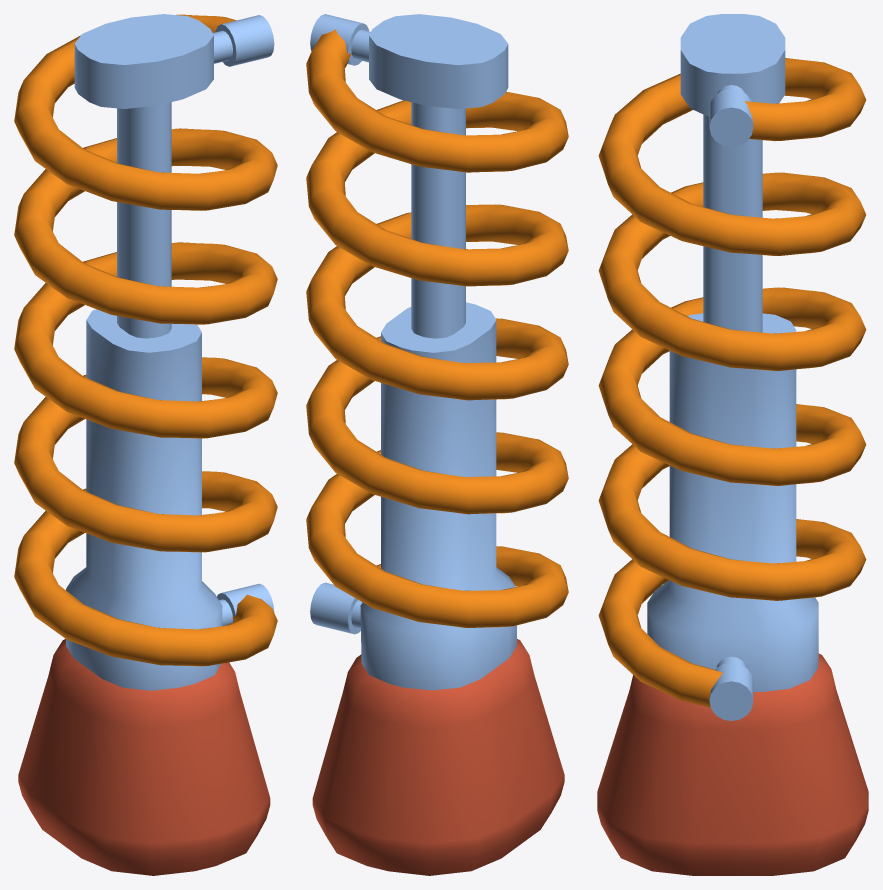
The model's file is SpringsUpgrade_02_mesh.fbx.
3 views of the same model, side by side, from view 1: azimuth 30°, elevation 25°; view 2: azimuth 150°, elevation 25°; view 3: azimuth 270°, elevation 25° (orthographic).
Parts seen in each view (by area): view 1: Springs.003; view 2: Springs.003; view 3: Springs.003.
Part boxes in pixels (box(x1,y1,x2,y2)): Springs.003: box(14, 14, 277, 875); Springs.003: box(306, 14, 568, 875); Springs.003: box(597, 14, 868, 875).
Size of the model in its own units: 13.83 by 44.71 by 13.88.
